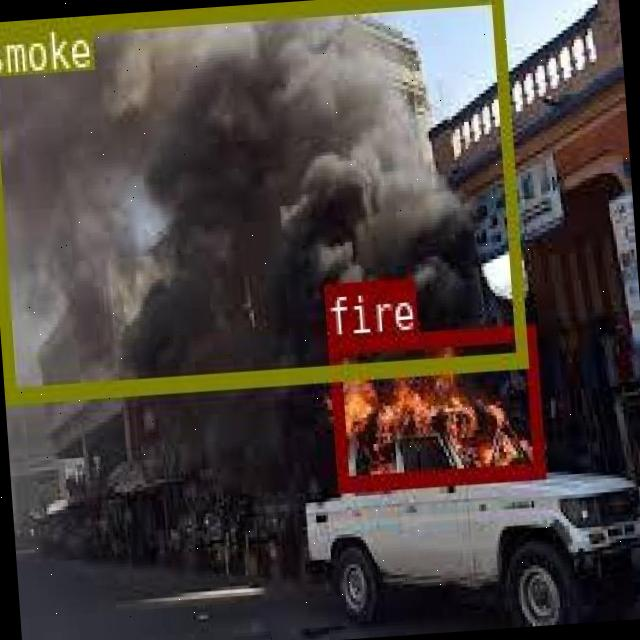fire: (326, 323, 542, 490)
smoke: (0, 0, 523, 398)
